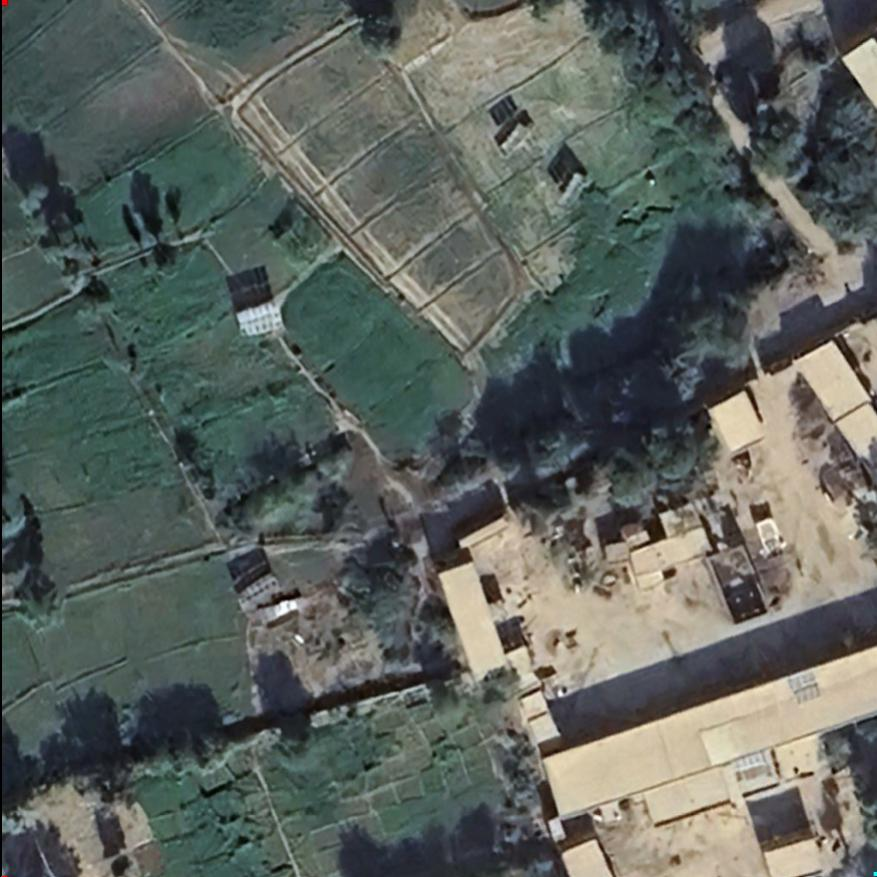Solarpanel: (233, 296, 291, 343), (230, 566, 283, 612), (492, 118, 534, 166), (726, 749, 779, 786), (784, 669, 826, 707)
